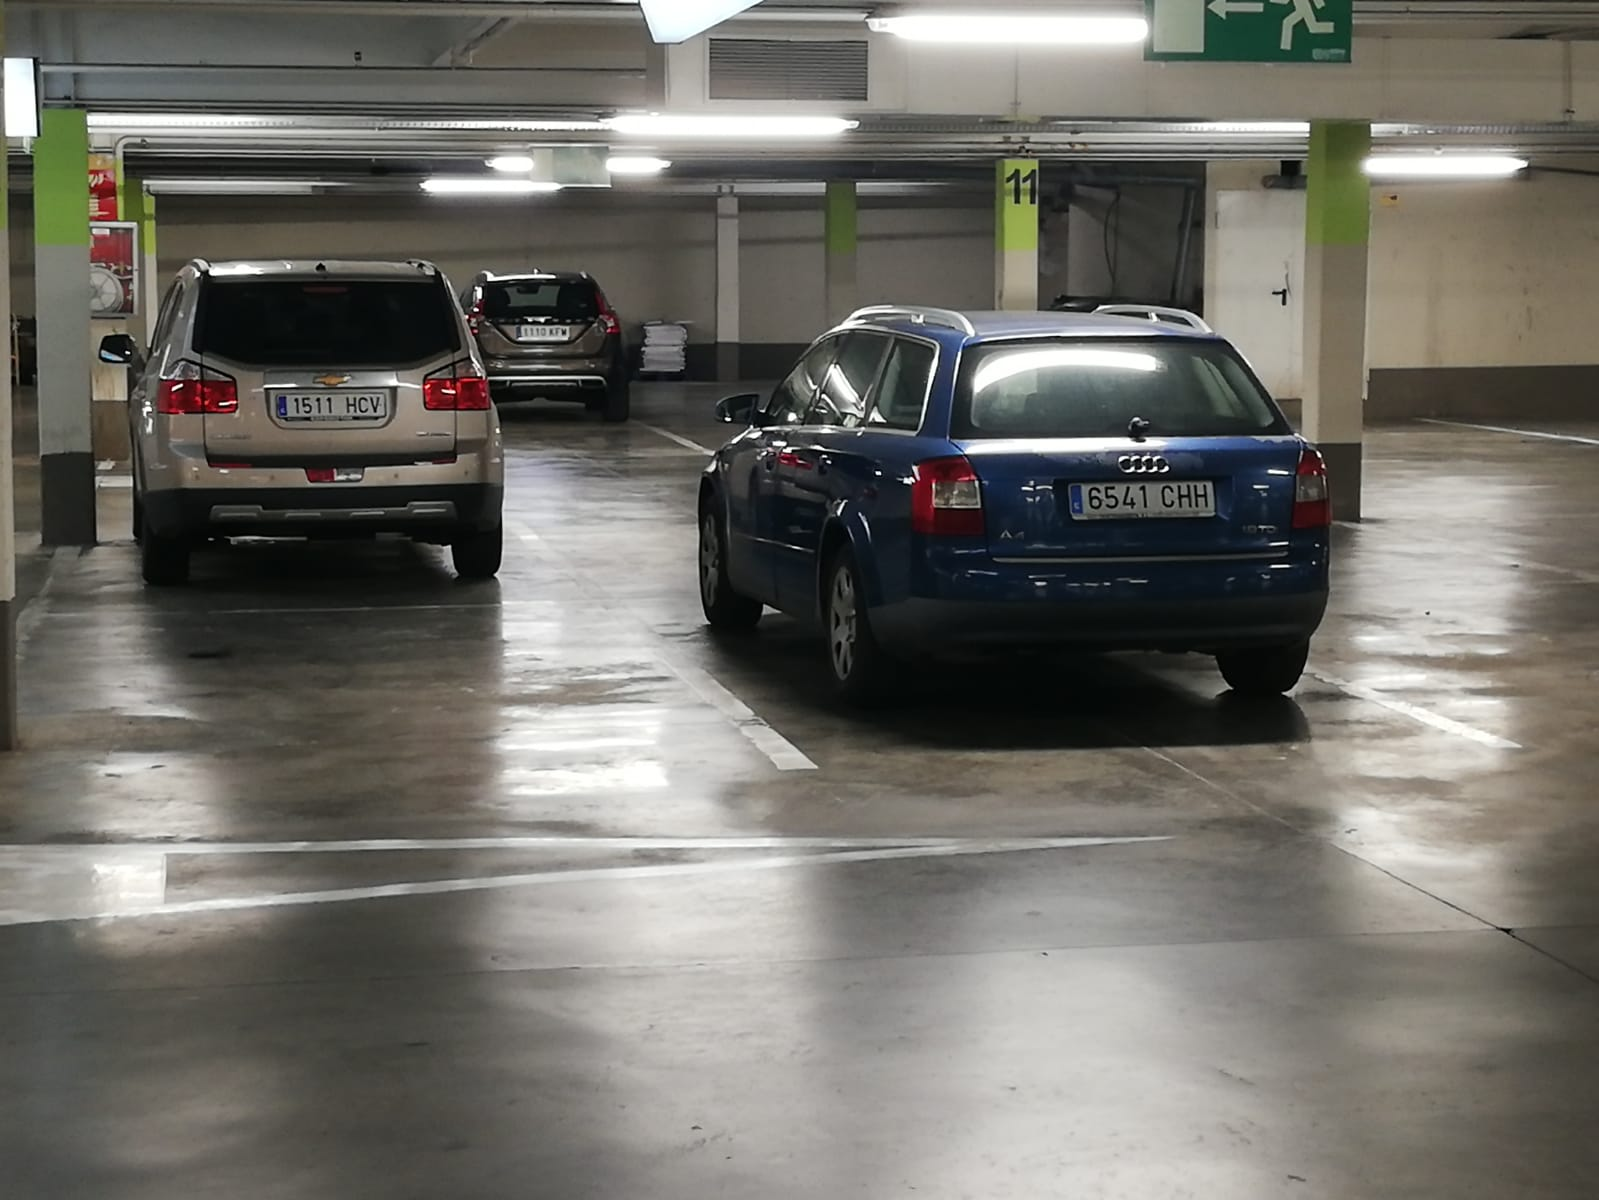Car: (700, 302, 1330, 699), (127, 249, 508, 576)
Plate: (1067, 482, 1212, 516), (275, 392, 386, 418)
